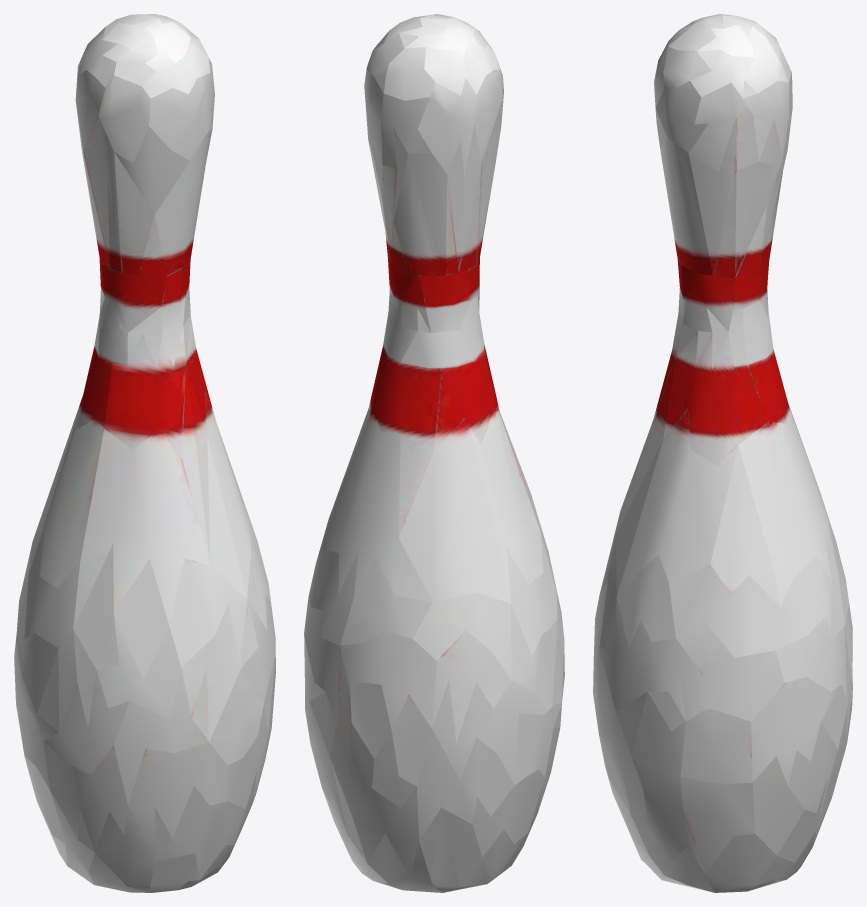
File: bowling_pin.glb
The picture shows the model from 3 angles, left to right: view 1: azimuth 30°, elevation 25°; view 2: azimuth 150°, elevation 25°; view 3: azimuth 270°, elevation 25°; orthographic projection.
Bounding box in the file's own units: 0.537 × 1.9 × 0.534.
1 material, 1 textured.
